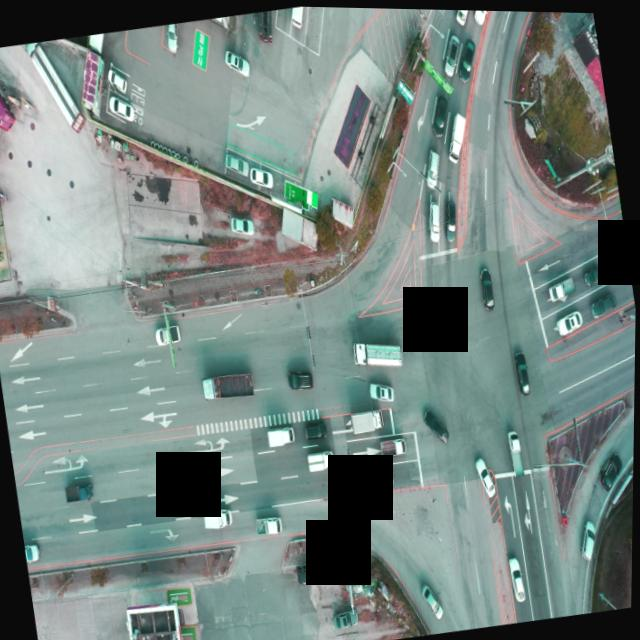car: (420, 401, 450, 442), (597, 446, 626, 487), (438, 30, 463, 75), (440, 191, 462, 240), (426, 91, 450, 135), (454, 35, 478, 79), (420, 144, 444, 187), (577, 516, 601, 558), (474, 451, 496, 495), (420, 579, 444, 619), (508, 550, 527, 599), (421, 195, 441, 240), (552, 305, 583, 334), (224, 43, 250, 77), (514, 348, 533, 393), (587, 287, 616, 315), (478, 262, 496, 307), (224, 146, 250, 175), (366, 376, 394, 402), (109, 90, 134, 119), (288, 363, 317, 388), (296, 560, 324, 585), (106, 62, 128, 93), (248, 162, 273, 189), (156, 321, 183, 346), (333, 604, 360, 628), (228, 213, 254, 236), (300, 417, 326, 439), (580, 260, 604, 283), (163, 21, 179, 52), (468, 8, 495, 23), (24, 541, 40, 561), (621, 237, 630, 261)
medium_truck: (24, 38, 84, 138), (199, 365, 256, 401), (350, 332, 402, 370), (348, 404, 384, 434), (252, 8, 273, 43)
small_bus: (287, 5, 306, 28)
small_truck: (441, 106, 471, 162), (506, 425, 525, 472), (545, 269, 576, 297), (264, 421, 296, 447), (201, 504, 233, 529), (303, 443, 332, 468), (63, 481, 94, 504), (256, 511, 284, 535), (379, 434, 407, 458), (369, 466, 395, 488), (450, 8, 481, 23)
